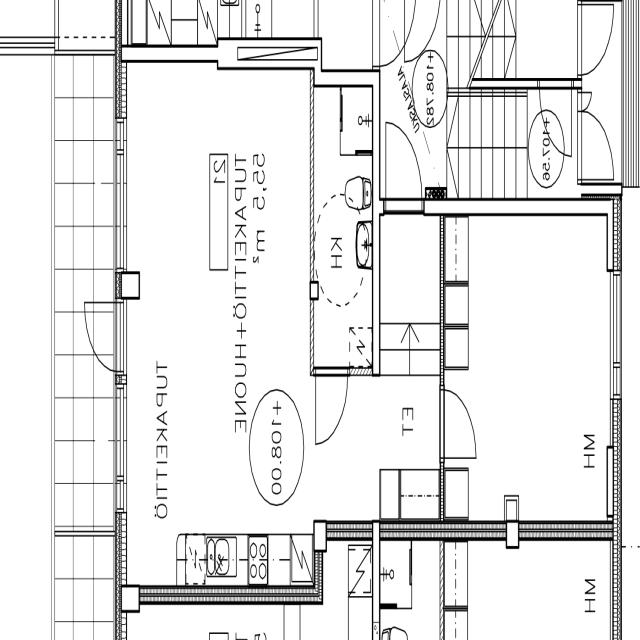door: (370, 0, 439, 85), (381, 116, 423, 226), (313, 360, 351, 461), (81, 295, 123, 384), (577, 96, 615, 188), (576, 0, 617, 82), (436, 384, 479, 462), (536, 77, 574, 163)
window: (111, 110, 131, 282), (606, 258, 628, 410), (110, 380, 132, 522)
